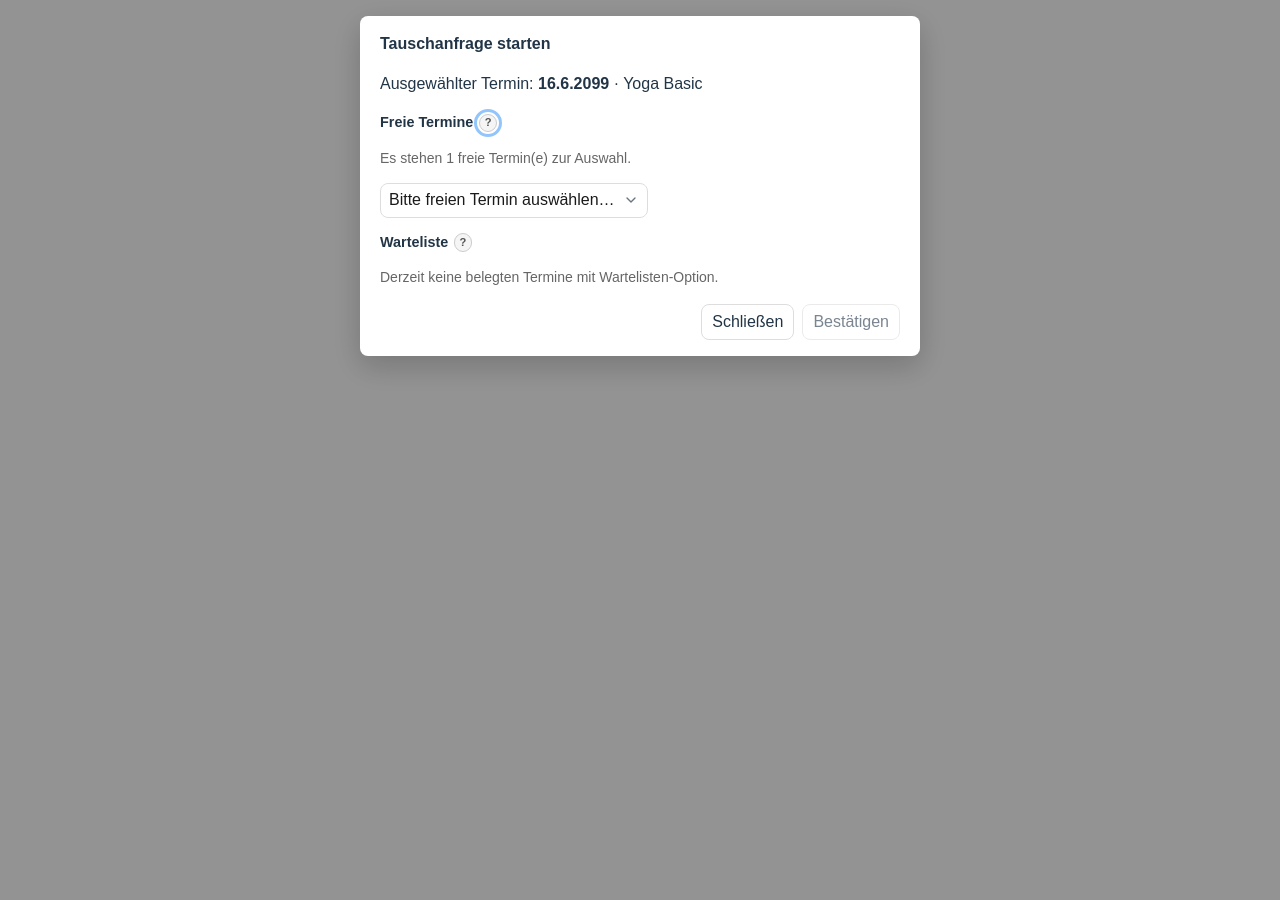
Test: CourseSwapModal › beschreibt Tauschziele für Kursblöcke über das Endedatum statt Offset-Fenster
The width and height of the screenshot is (1280, 900).
Click the button named "Hilfe: Freie Tauschtermine".
click(488, 123)  # box x1=479 y1=114 x2=497 y2=132
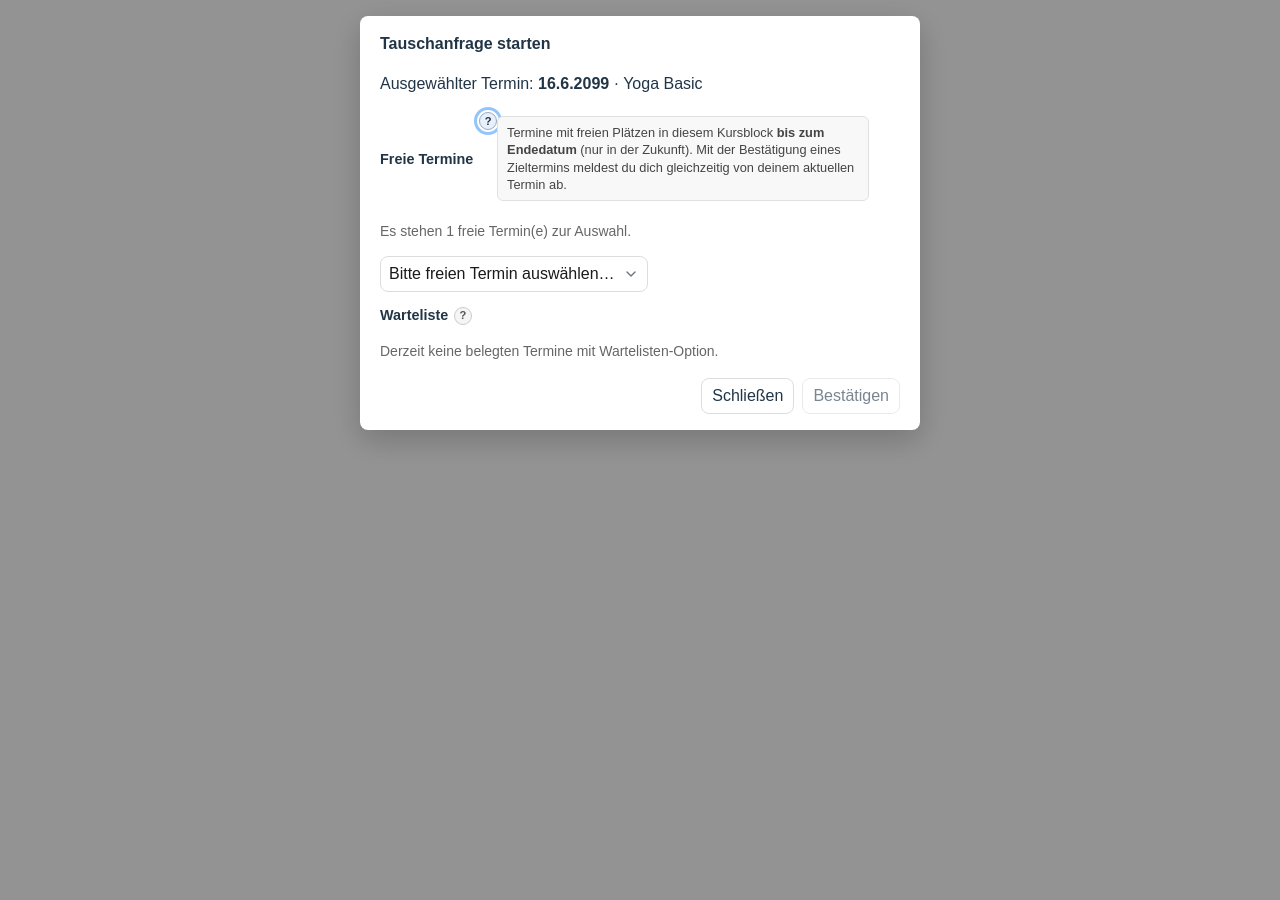
Expected: the element named "Freie Tauschtermine" shows "bis zum Endedatum", x1=507 y1=125 x2=824 y2=158
